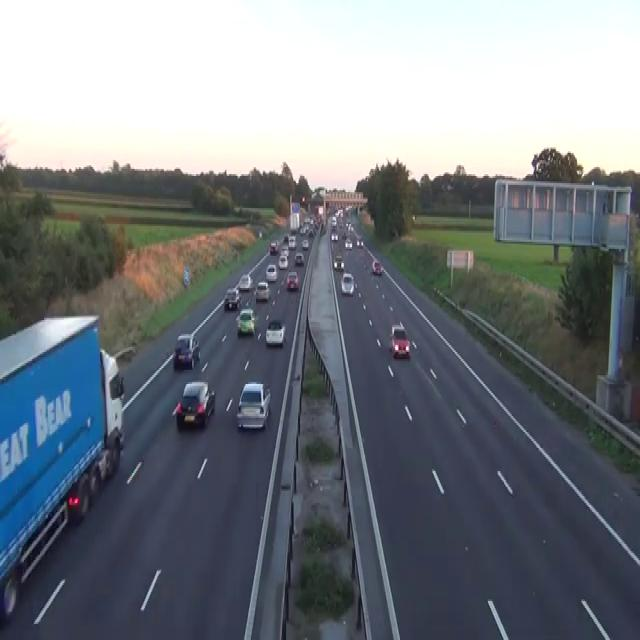Car: (172, 378, 215, 428), (235, 380, 271, 430), (173, 332, 200, 370), (389, 324, 410, 359), (235, 308, 256, 334), (265, 318, 285, 345), (224, 286, 240, 310), (340, 272, 355, 295), (254, 281, 270, 300), (237, 272, 253, 290), (286, 270, 298, 290), (265, 263, 277, 281), (333, 252, 344, 270), (371, 258, 382, 274), (278, 252, 288, 268), (294, 251, 304, 265), (269, 240, 278, 254), (288, 235, 296, 249), (441, 182, 455, 190), (280, 244, 289, 256), (299, 224, 308, 235), (319, 222, 326, 235), (344, 238, 352, 249), (330, 231, 338, 242), (301, 238, 308, 249), (336, 208, 343, 219), (356, 237, 363, 247), (331, 217, 337, 227), (345, 204, 351, 212), (340, 230, 346, 238), (308, 228, 314, 236), (283, 233, 288, 242), (348, 222, 353, 231), (258, 228, 262, 238), (346, 220, 351, 228), (301, 195, 305, 202)
Truck: (0, 313, 125, 620)
